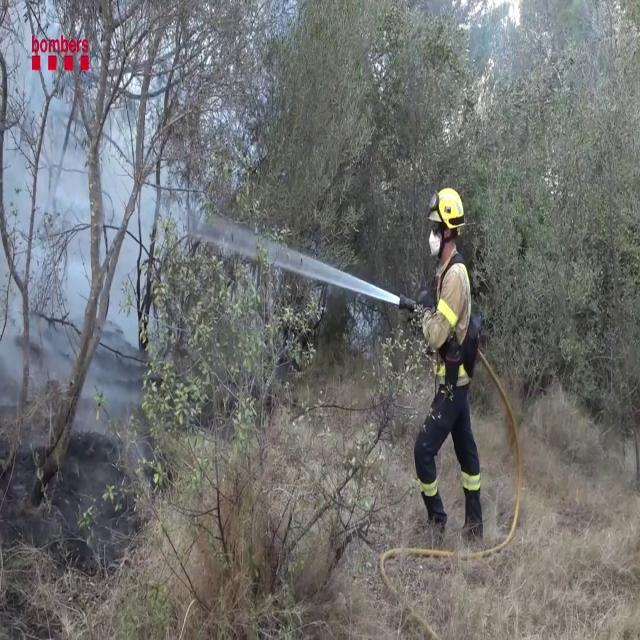Smoke: (0, 54, 180, 430)
